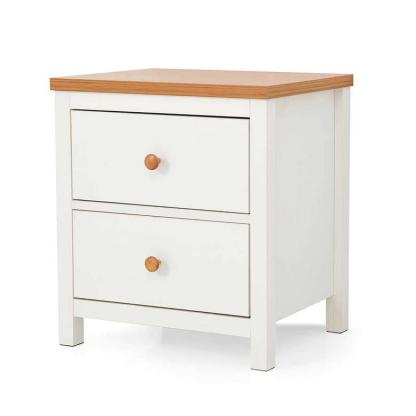Nightstand: (50, 71, 354, 372)
